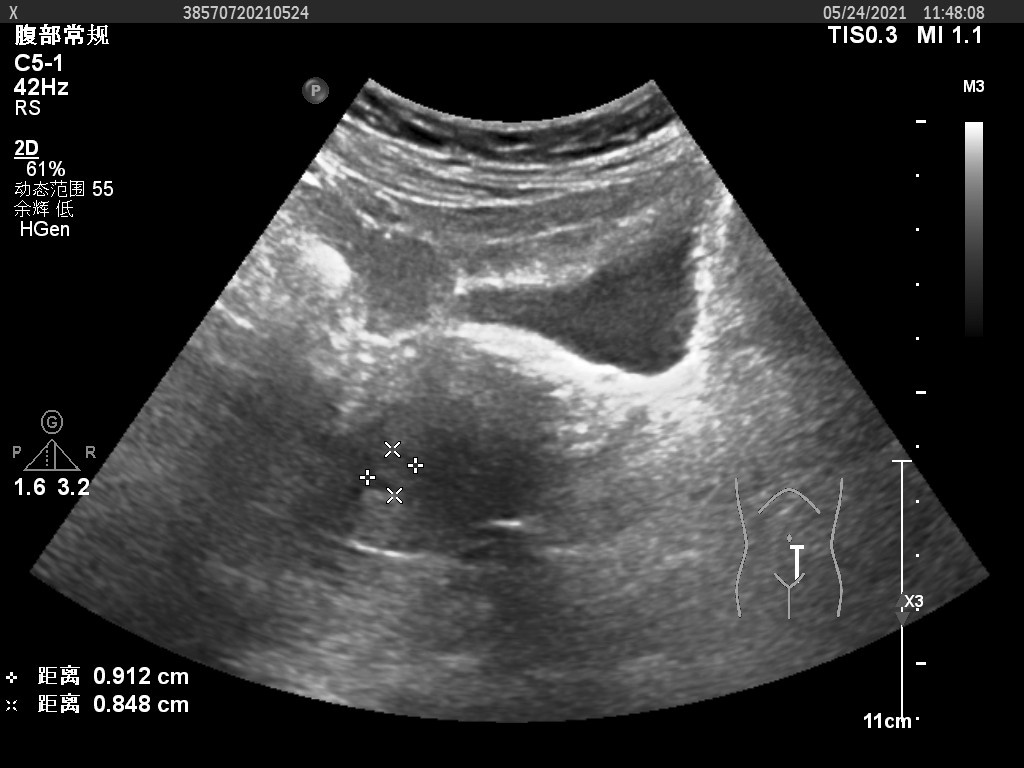肌瘤: (365, 451, 420, 496)
